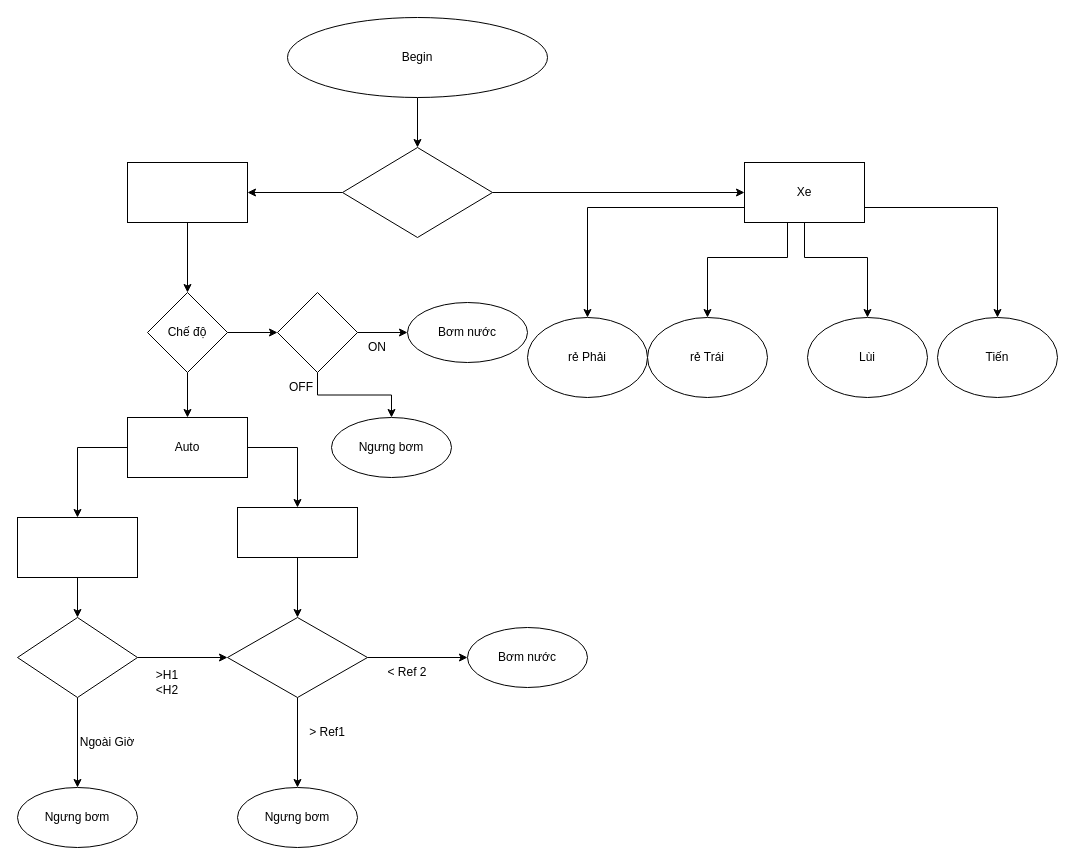
The diagram is 1075 pixels wide and 865 high, and some of its shapes have lost their labels. The centre of each missing label's shape, as x and y in pixels:
"Giờ hiện tại" belongs at pixel 77 657.
"Hẹn giờ" belongs at pixel 77 547.
"Hệ thống tưới thông minh" belongs at pixel 187 192.
"Không hẹn giờ" belongs at pixel 297 532.
"Manual" belongs at pixel 317 332.
"Phần Trăm Độ ẩm" belongs at pixel 297 657.
"Điều khiển" belongs at pixel 417 192.
